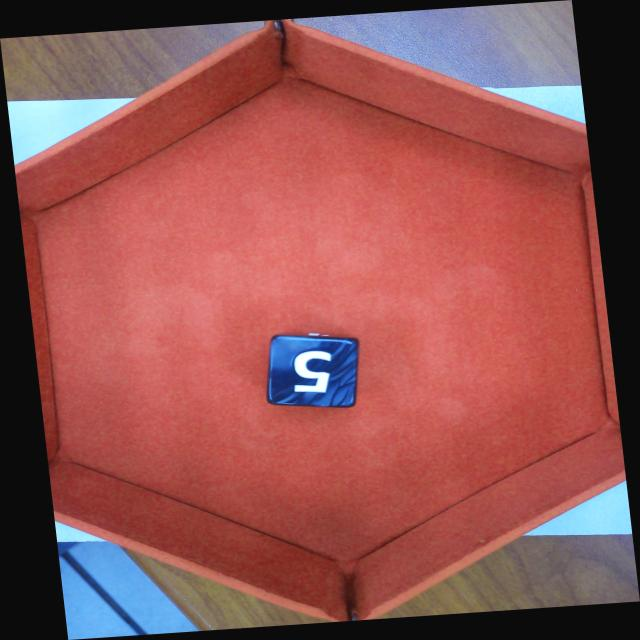dice: (264, 335, 363, 409)
